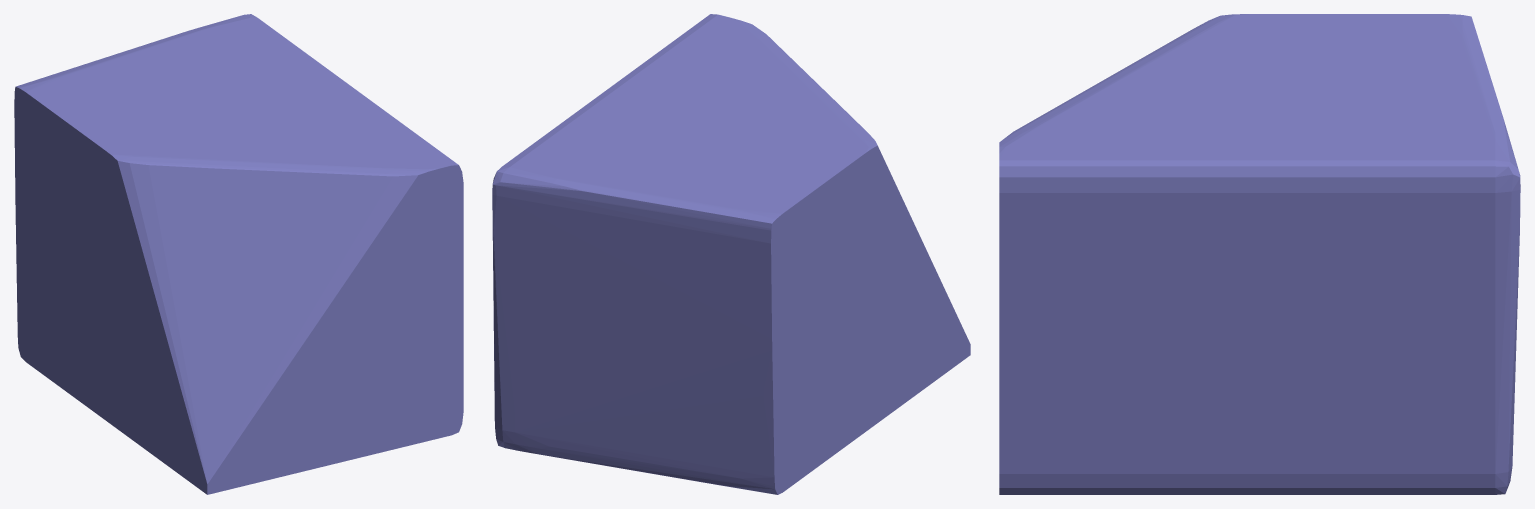
The model's file is right-elbow-0_part_12.obj.
3 views of the same model, side by side, from view 1: azimuth 30°, elevation 25°; view 2: azimuth 150°, elevation 25°; view 3: azimuth 270°, elevation 25° (orthographic). The views are drawn at different scales.
Size of the model in its own units: 0.0203 by 0.0204 by 0.0291.
